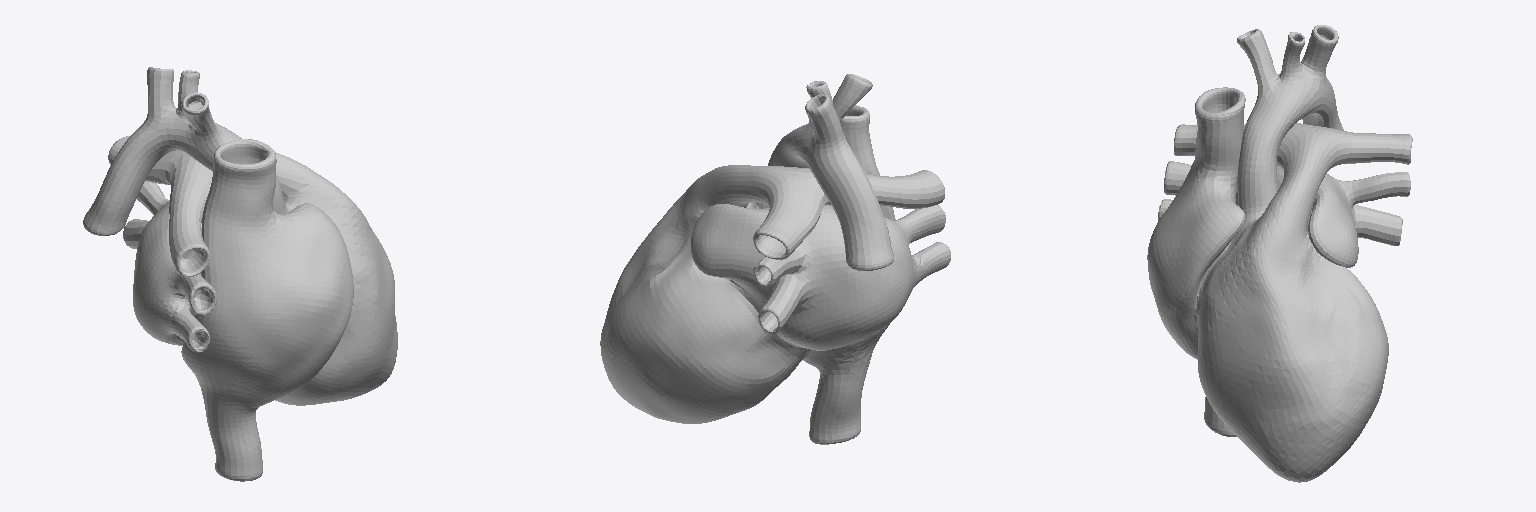
3 renders of one model, left to right at view 1: azimuth 30°, elevation 25°; view 2: azimuth 150°, elevation 25°; view 3: azimuth 270°, elevation 25°, orthographic.
Parts seen in each view (by area): view 1: HEART_PRO; view 2: HEART_PRO; view 3: HEART_PRO.
Part boxes in pixels (bbox=[...]): HEART_PRO: bbox=[83, 67, 397, 481]; HEART_PRO: bbox=[600, 74, 950, 444]; HEART_PRO: bbox=[1147, 25, 1412, 482].
Size of the model in its own units: 652 by 821 by 511.